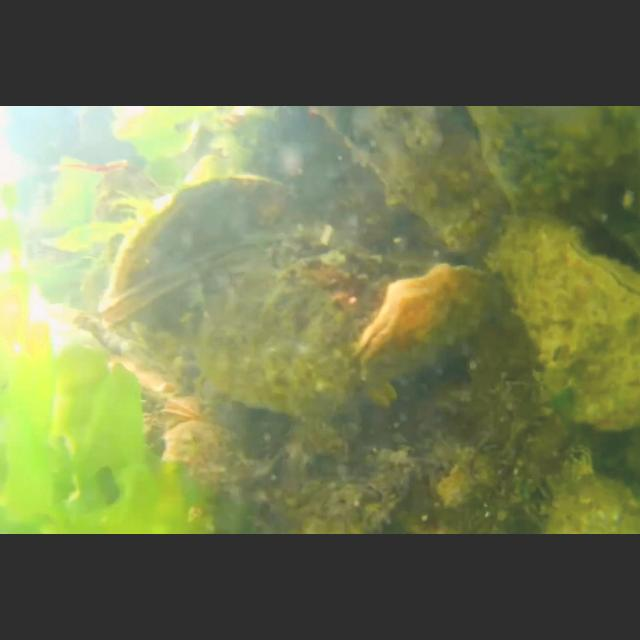Oyster-Closed: (304, 106, 508, 254), (465, 106, 640, 208)
Oyster-Open: (91, 225, 396, 425), (492, 208, 640, 432), (98, 169, 314, 309), (354, 264, 510, 396), (158, 392, 208, 422)
